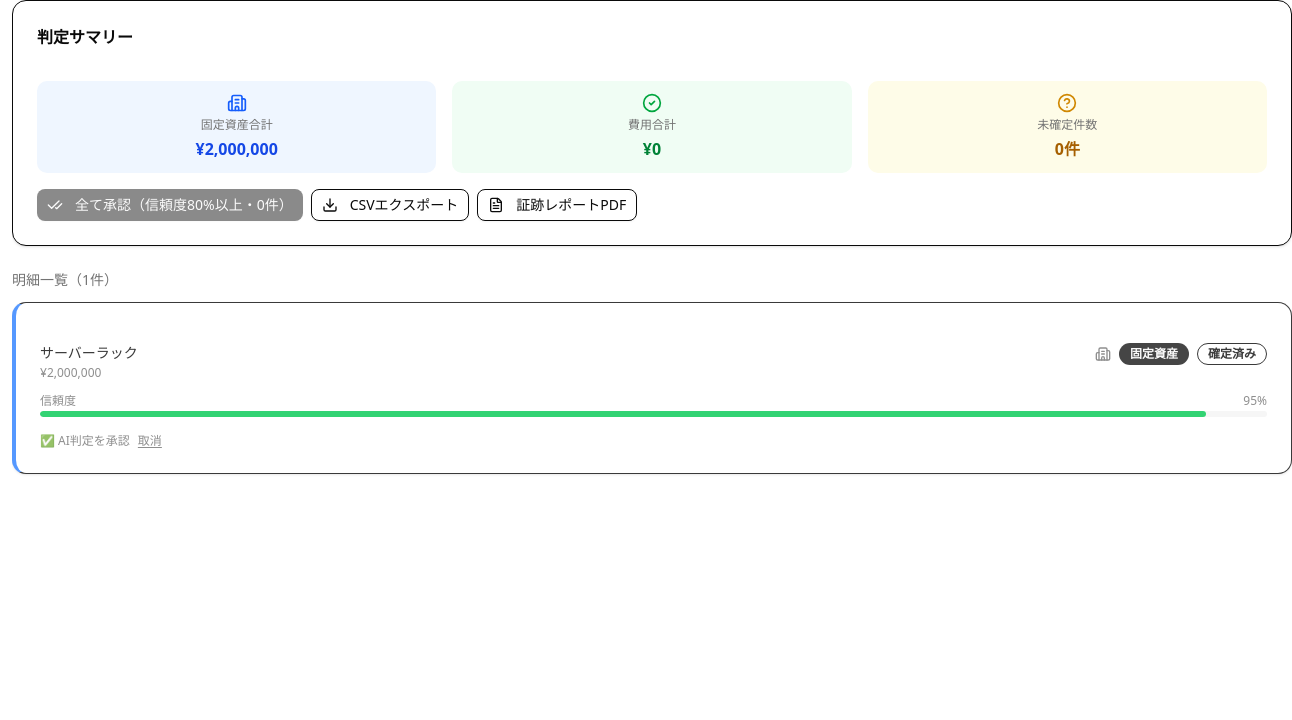
Test: PDFReviewSection — PDF report (F-12) › エラーメッセージが一般的な例外でも表示される
This screenshot has width=1292, height=720.
Click the button with test id "btn-pdf-report" at point(557, 205), box [477, 189, 637, 221]
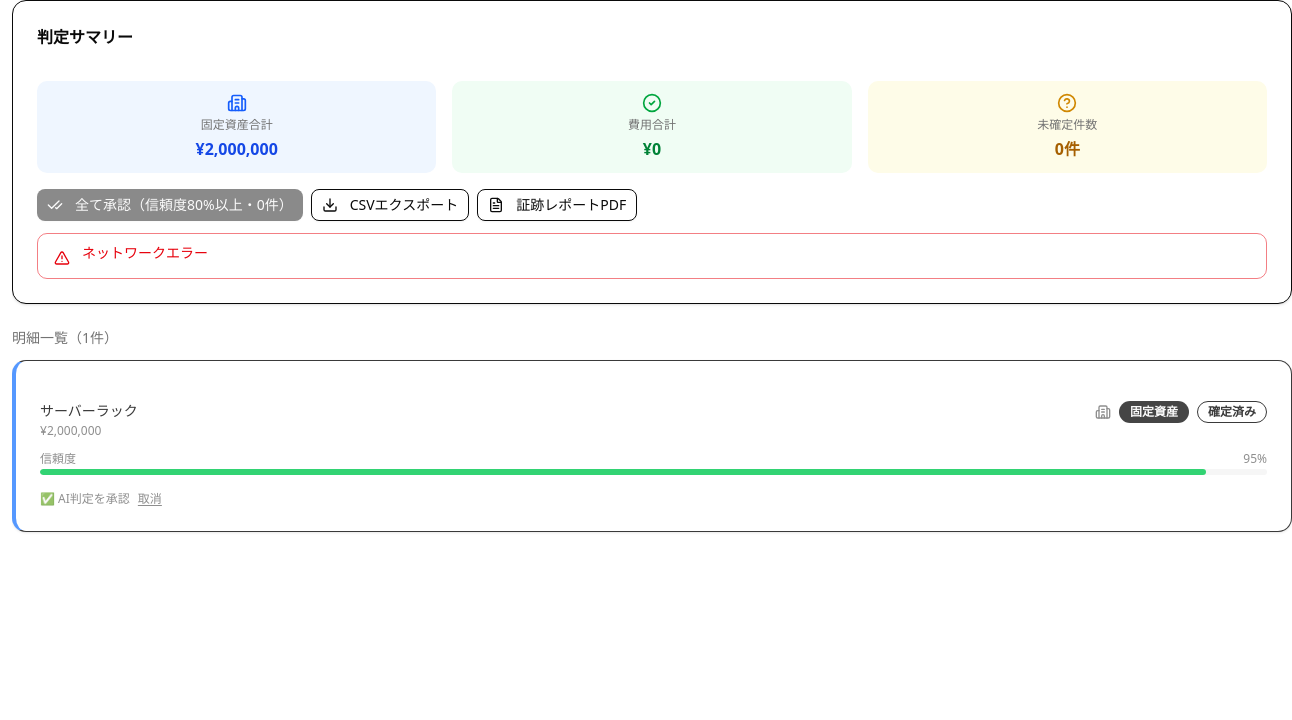
Result: the message "ネットワークエラー" is shown at [37, 233, 1267, 279]
Result: the message with test id "pdf-error-alert" reads "ネットワークエラー" at [82, 243, 208, 262]
